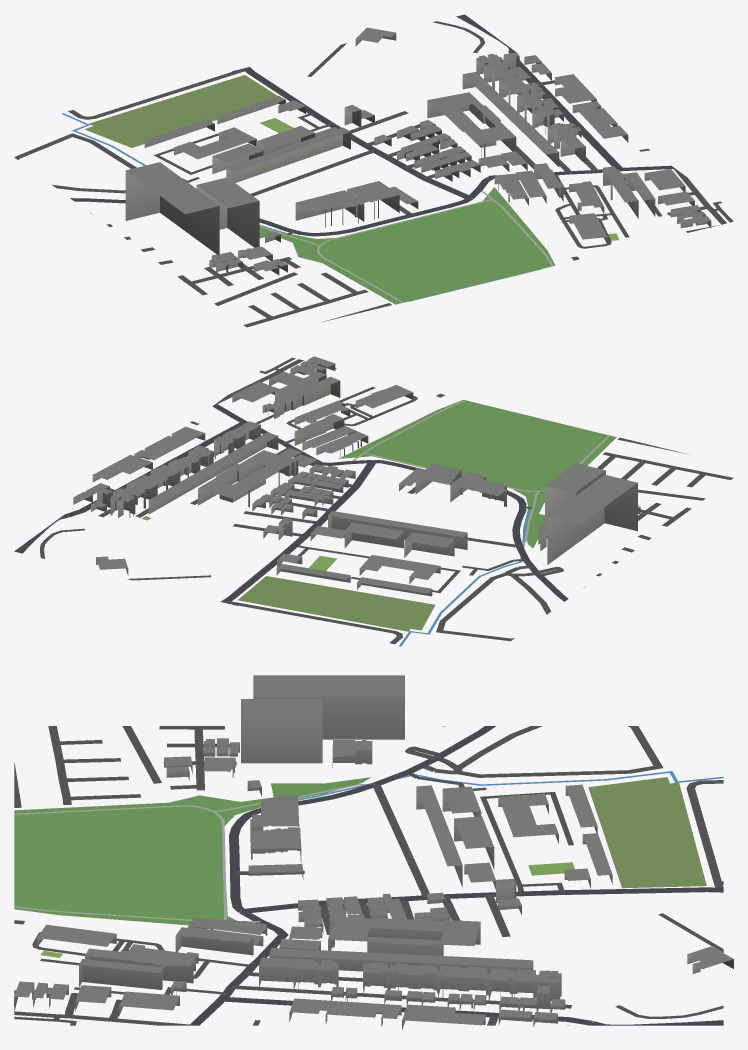
3 renders of one model, top to bottom at view 1: azimuth 30°, elevation 25°; view 2: azimuth 150°, elevation 25°; view 3: azimuth 270°, elevation 25°, orthographic. The views are drawn at different scales.
Parts seen in each view (by area): view 1: building, ground; view 2: building, ground, water; view 3: building, ground, water.
Part boxes in pixels (left/top/right/bottom): building: left=125, top=27, right=711, bottom=274; ground: left=14, top=14, right=733, bottom=327; building: left=73, top=356, right=640, bottom=596; ground: left=14, top=357, right=733, bottom=644; water: left=399, top=508, right=529, bottom=646; building: left=14, top=675, right=733, bottom=1029; ground: left=14, top=726, right=723, bottom=1025; water: left=298, top=771, right=723, bottom=800.
Size of the model in its own units: 514 by 50 by 508.
